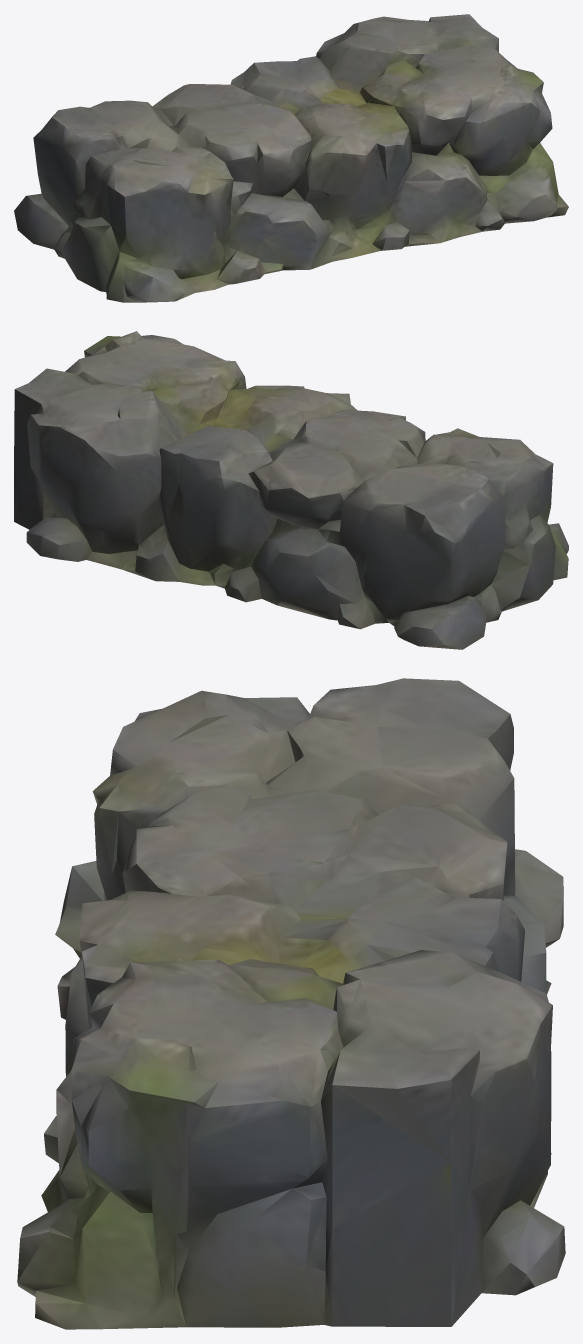
The model's file is cueva_pared_baja.glb.
3 renders of one model, top to bottom at view 1: azimuth 30°, elevation 25°; view 2: azimuth 150°, elevation 25°; view 3: azimuth 270°, elevation 25°, orthographic. The views are drawn at different scales.
Visible parts, largest first — view 1: cueva_pared_baja_malla; view 2: cueva_pared_baja_malla; view 3: cueva_pared_baja_malla.
Boxes of the visible parts, x1=… form: cueva_pared_baja_malla: x1=14, y1=14, x2=568, y2=302; cueva_pared_baja_malla: x1=14, y1=331, x2=568, y2=649; cueva_pared_baja_malla: x1=17, y1=678, x2=565, y2=1329.
Size of the model in its own units: 0.5384 by 0.1482 by 0.288.
1 material, 1 textured.
